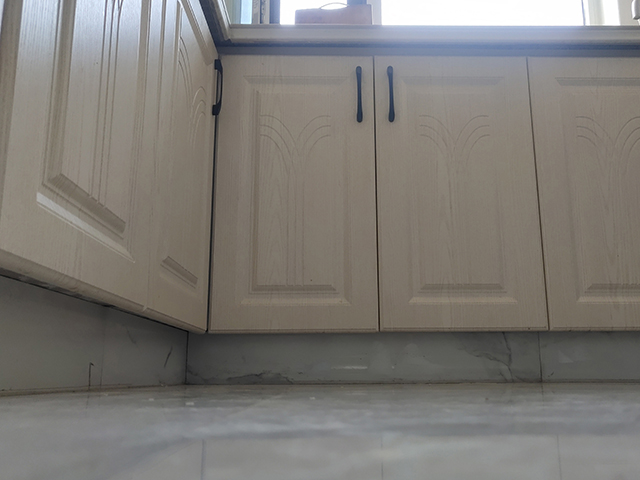cabinet: (229, 25, 635, 385), (1, 1, 227, 390)
